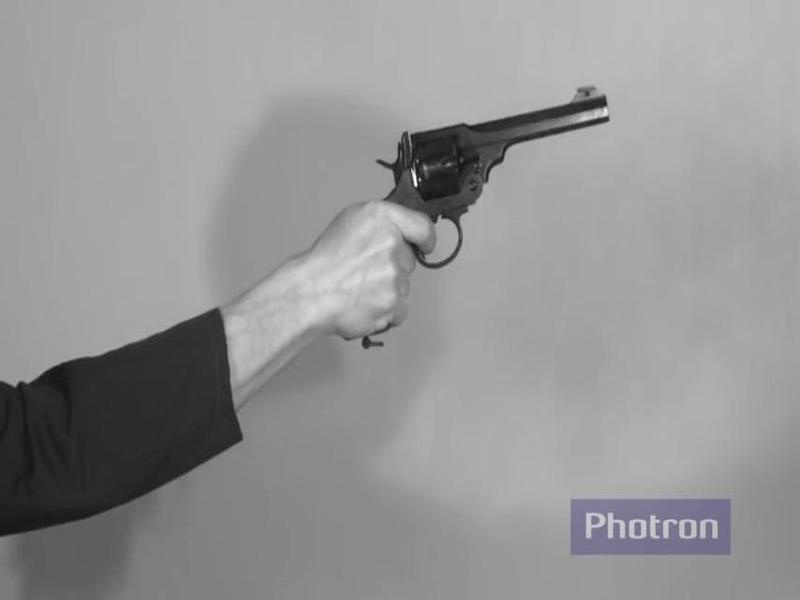Revolver: (360, 67, 619, 280)
